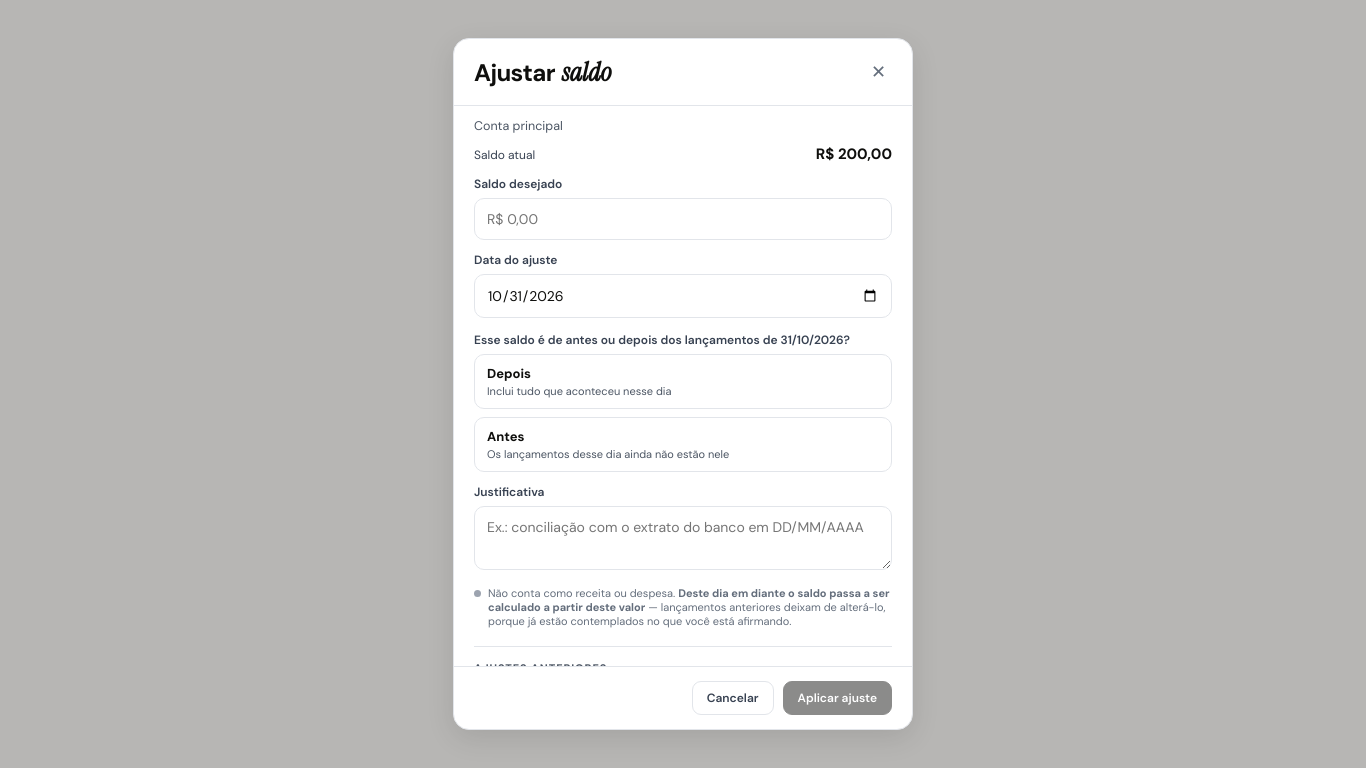
Scenario: <AdjustBalanceModal> — antes ou depois dos lançamentos do dia › a explicação do rodapé muda conforme a resposta
This screenshot has width=1366, height=768.
Type "150" into the field with placeholder "R$ 0,00" at (683, 219), box top-left (474, 198), bottom-right (892, 240)
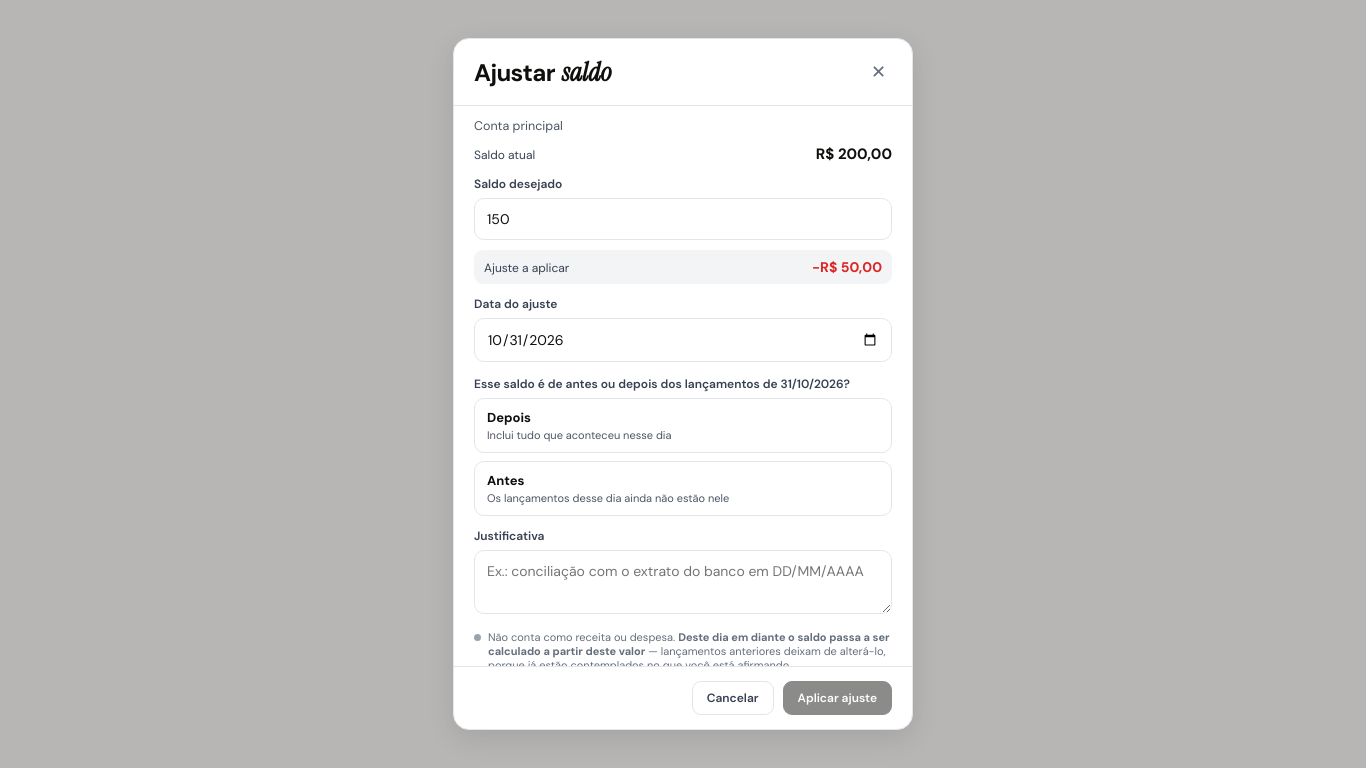
Click the text "Depois" at (509, 418), box top-left (487, 409), bottom-right (531, 426)
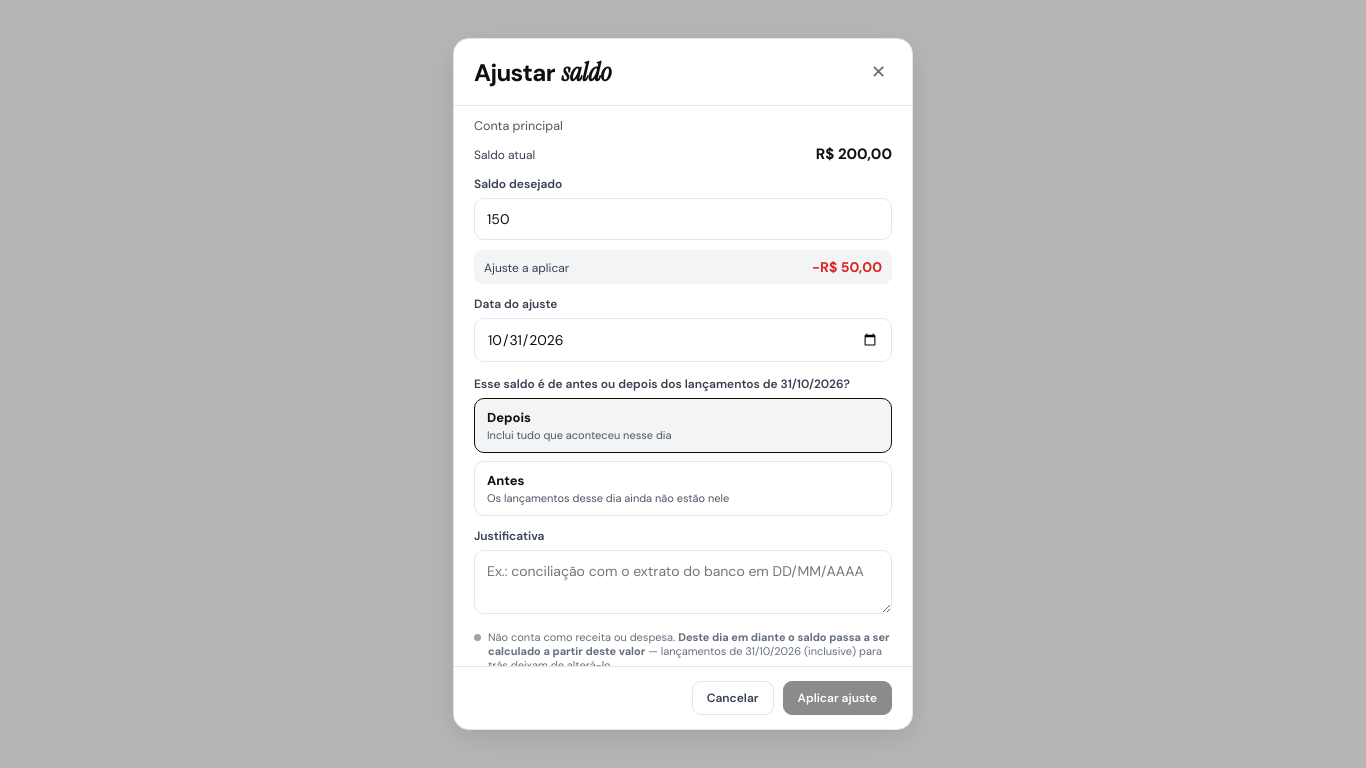
Now the text "(inclusive) para trás" is shown, box top-left (488, 644), bottom-right (882, 666)
Click the text "Antes" at (506, 481), box top-left (487, 472), bottom-right (524, 489)
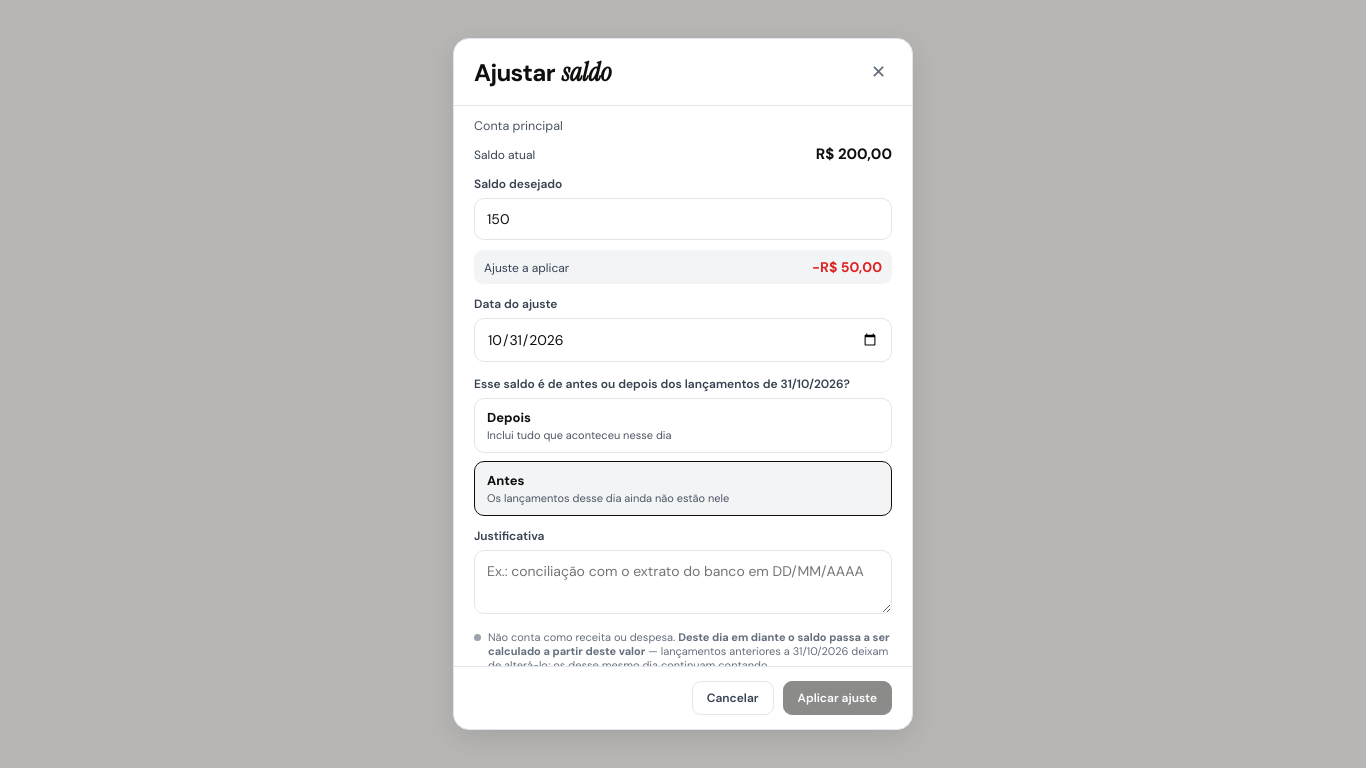
Now the text "desse mesmo dia continuam contando" is shown, box top-left (488, 644), bottom-right (888, 666)
